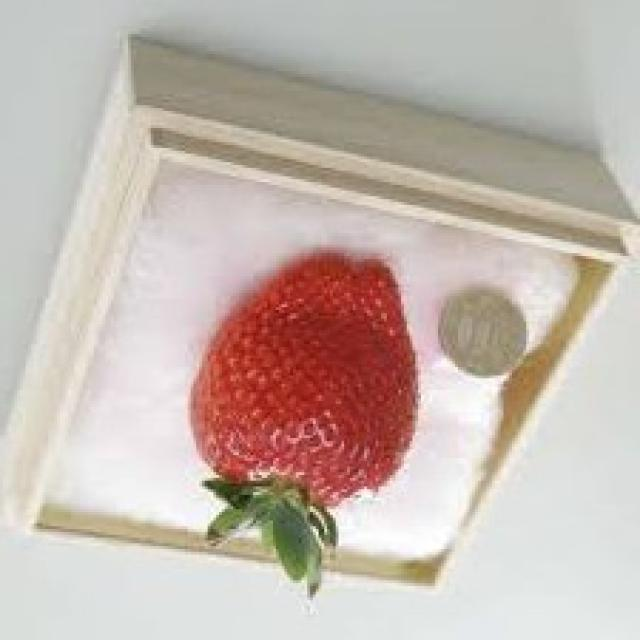mature: (189, 257, 419, 510)
